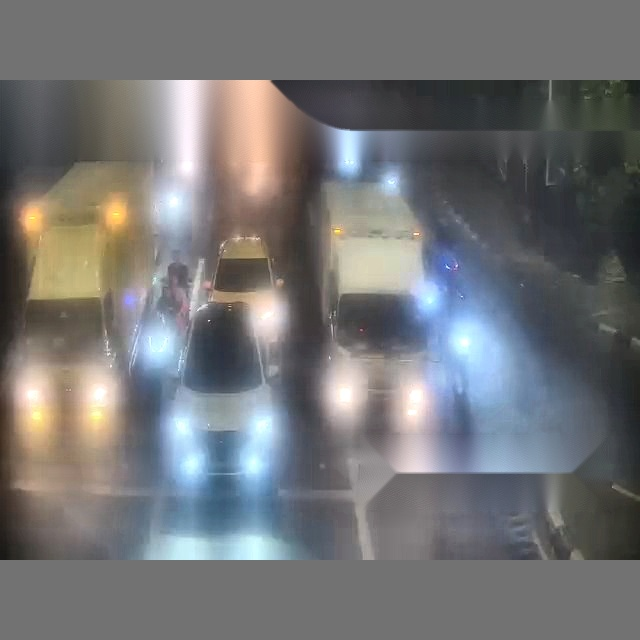Mobil: (173, 301, 281, 540)
